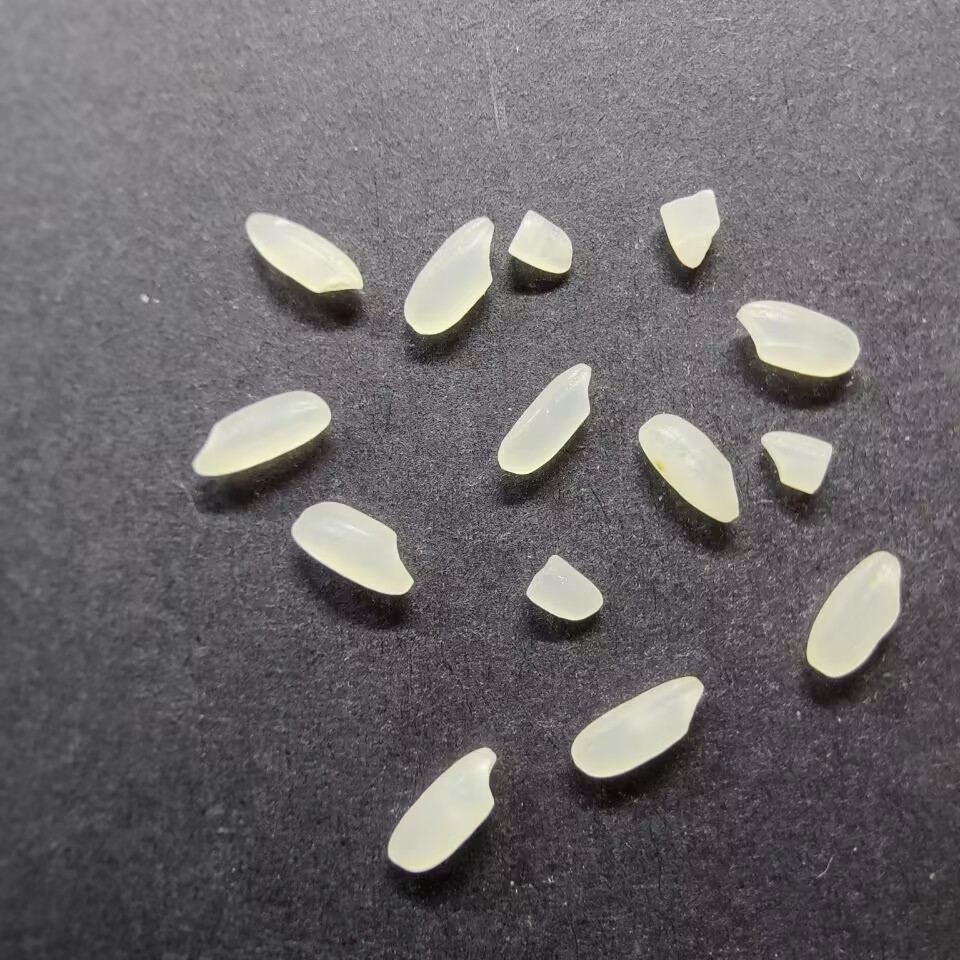broken: (525, 553, 604, 621), (759, 428, 835, 497), (658, 188, 721, 270), (505, 207, 574, 276)
rice: (387, 744, 499, 876), (569, 676, 707, 780), (805, 550, 904, 680), (190, 388, 331, 479), (637, 413, 742, 527), (290, 501, 414, 595), (497, 360, 596, 477), (403, 215, 496, 337), (244, 210, 367, 295), (735, 299, 860, 378)
